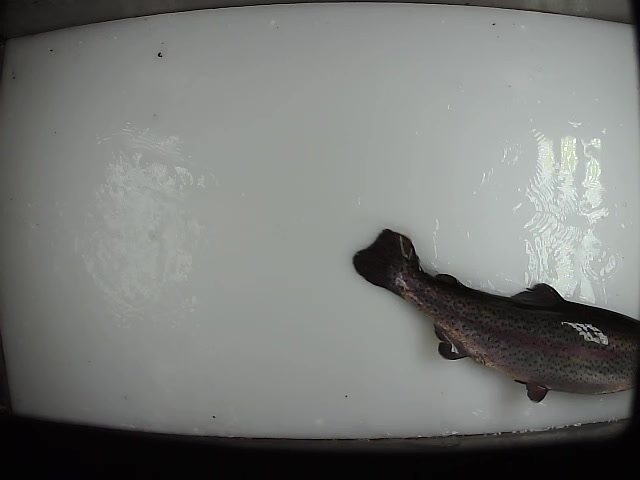fish: (350, 225, 640, 406)
